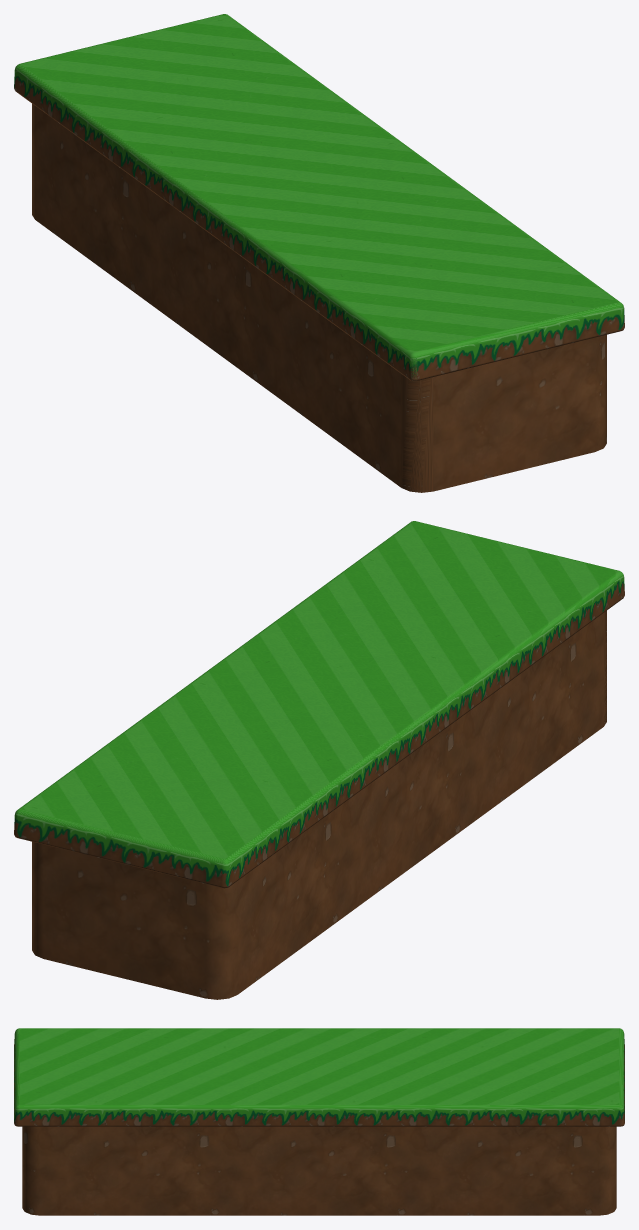
Rendered from Main_Platform.fbx.
3 renders of one model, top to bottom at view 1: azimuth 30°, elevation 25°; view 2: azimuth 150°, elevation 25°; view 3: azimuth 270°, elevation 25°, orthographic. The views are drawn at different scales.
Visible parts, largest first — view 1: polySurface14; view 2: polySurface14; view 3: polySurface14.
Boxes of the visible parts, <box> form: polySurface14: <box>14,14,624,492</box>; polySurface14: <box>14,521,624,999</box>; polySurface14: <box>14,1028,624,1215</box>.
Size of the model in its own units: 31.85 by 20.67 by 103.
3 materials, 3 textured.
